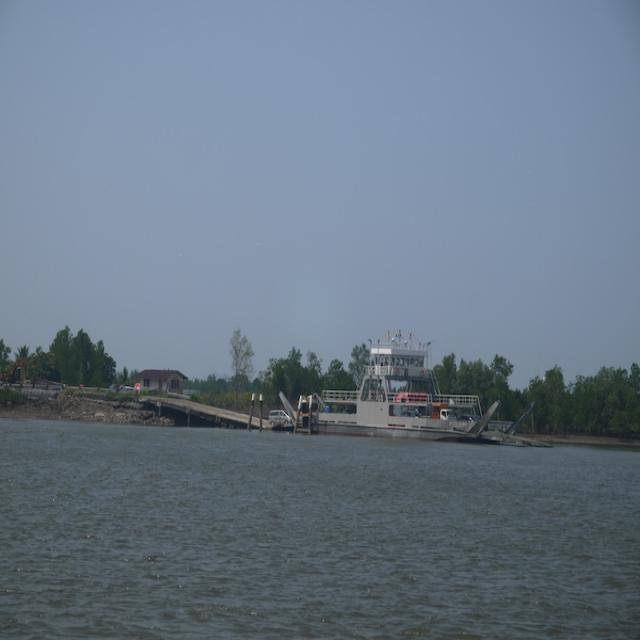passenger ship: (314, 336, 494, 442)
